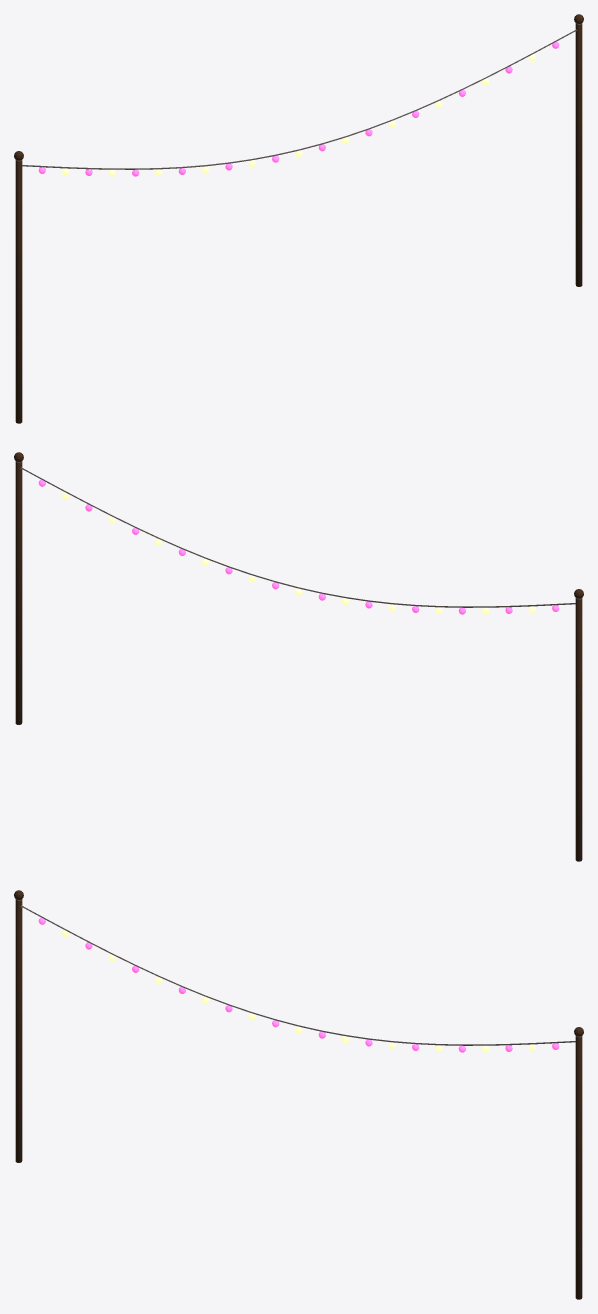
The model's file is rr_lantern_garland.glb.
3 renders of one model, top to bottom at view 1: azimuth 30°, elevation 25°; view 2: azimuth 150°, elevation 25°; view 3: azimuth 330°, elevation 25°, orthographic.
Parts seen in each view (by area): view 1: rr_lantern_garland; view 2: rr_lantern_garland; view 3: rr_lantern_garland.
Part boxes in pixels (x1,y1,x2,y2): rr_lantern_garland: [14, 14, 583, 423]; rr_lantern_garland: [14, 452, 583, 861]; rr_lantern_garland: [14, 890, 583, 1299].
Bounding box in the file's own units: 15.74 × 7.17 × 0.24.
4 materials, 4 textured.
